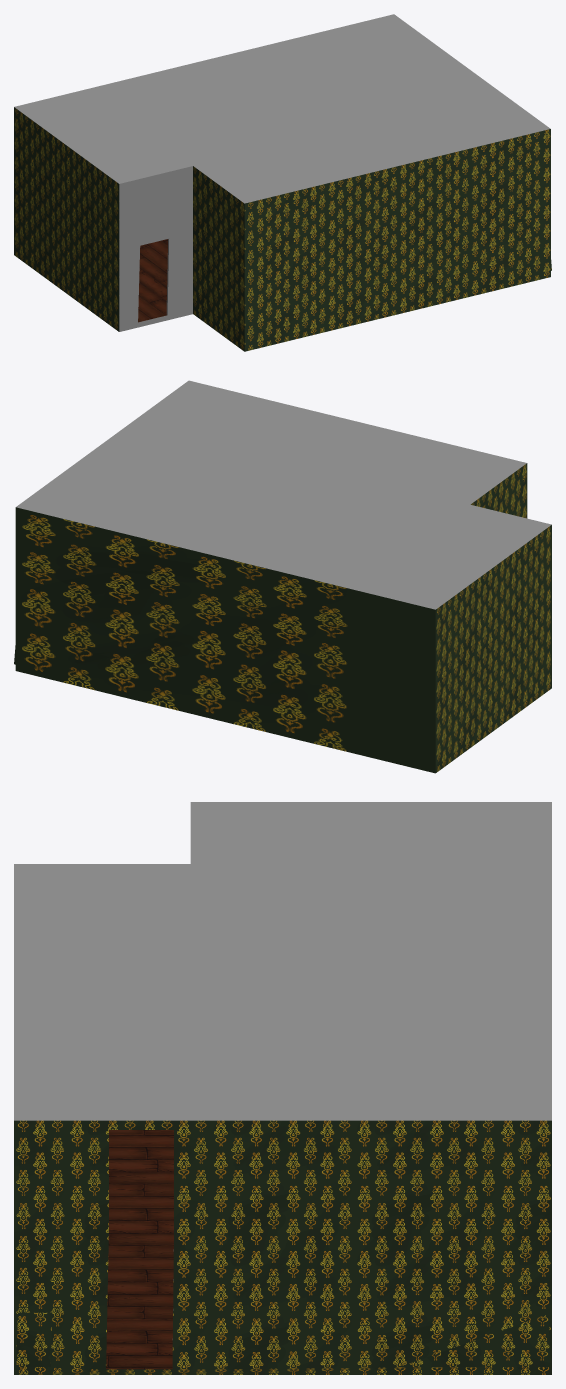
Rendered from Estudio_Paredes.FBX.
3 views of the same model, one above another, from view 1: azimuth 30°, elevation 25°; view 2: azimuth 150°, elevation 25°; view 3: azimuth 270°, elevation 25° (orthographic). The views are drawn at different scales.
Parts seen in each view (by area): view 1: Estudio; view 2: Estudio; view 3: Estudio.
Boxes of the visible parts, left/top/right/bottom form: Estudio: left=14, top=14, right=551, bottom=351; Estudio: left=14, top=380, right=551, bottom=773; Estudio: left=14, top=802, right=551, bottom=1374.
Bounding box in the file's own units: 1001 × 369 × 707.
Materials: 3 (2 with a texture image).
